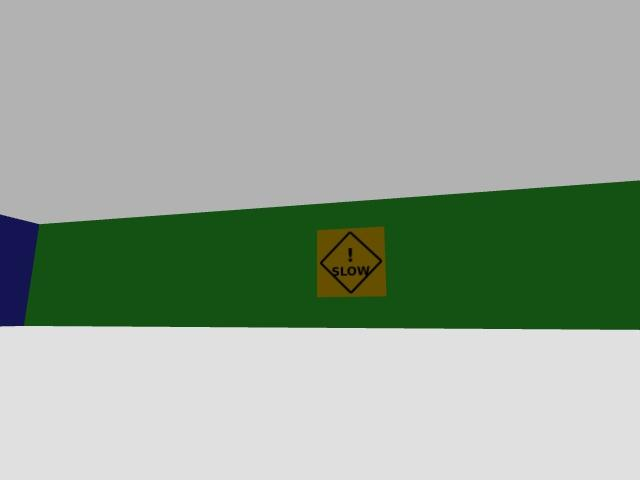slow: (317, 227, 385, 296)
